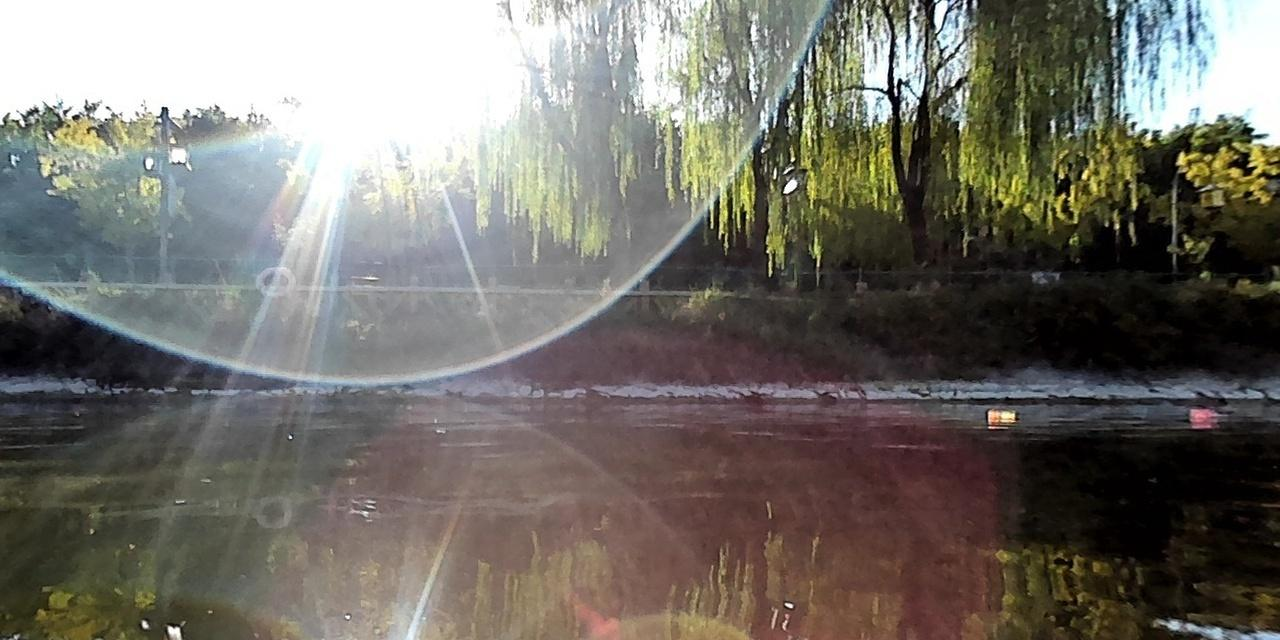bottle: (983, 407, 1021, 423), (1185, 404, 1220, 421)
